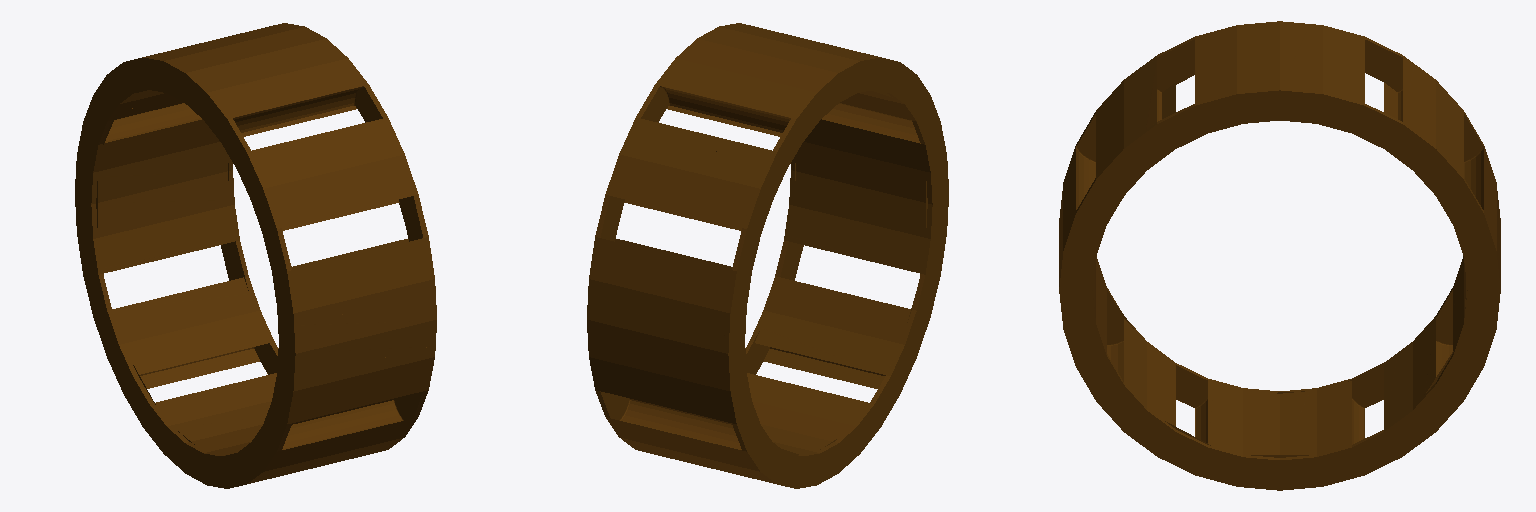
Rendered from Kuglelager-vorne-2.obj.
The picture shows the model from 3 angles: view 1: azimuth 30°, elevation 25°; view 2: azimuth 150°, elevation 25°; view 3: azimuth 270°, elevation 25°; orthographic projection.
Visible parts, largest first — view 1: Circle.011; view 2: Circle.011; view 3: Circle.011.
Boxes of the visible parts, x1=… form: Circle.011: x1=75, y1=23, x2=436, y2=488; Circle.011: x1=587, y1=23, x2=948, y2=488; Circle.011: x1=1059, y1=21, x2=1500, y2=490.
Size of the model in its own units: 0.0181 by 0.0488 by 0.0488.